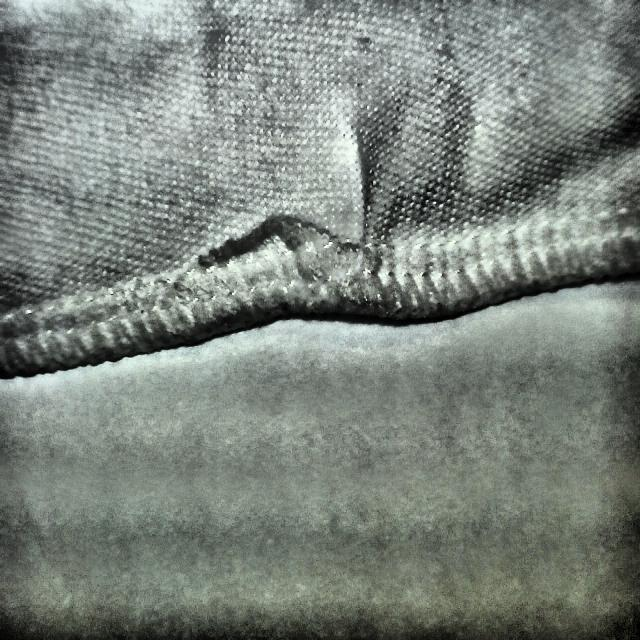seam: (202, 139, 410, 328)
